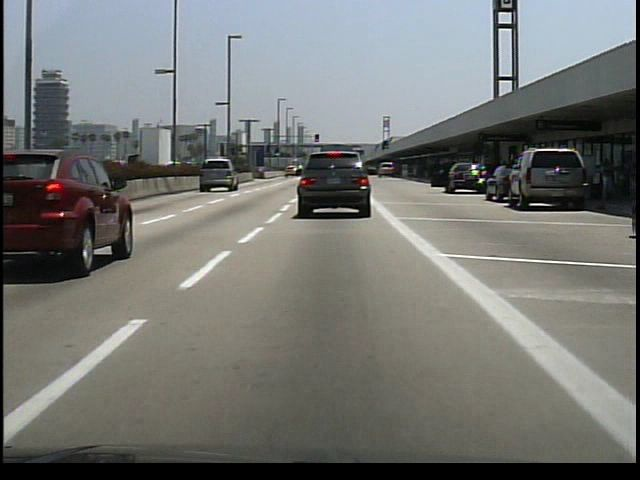person: (597, 154, 616, 205)
